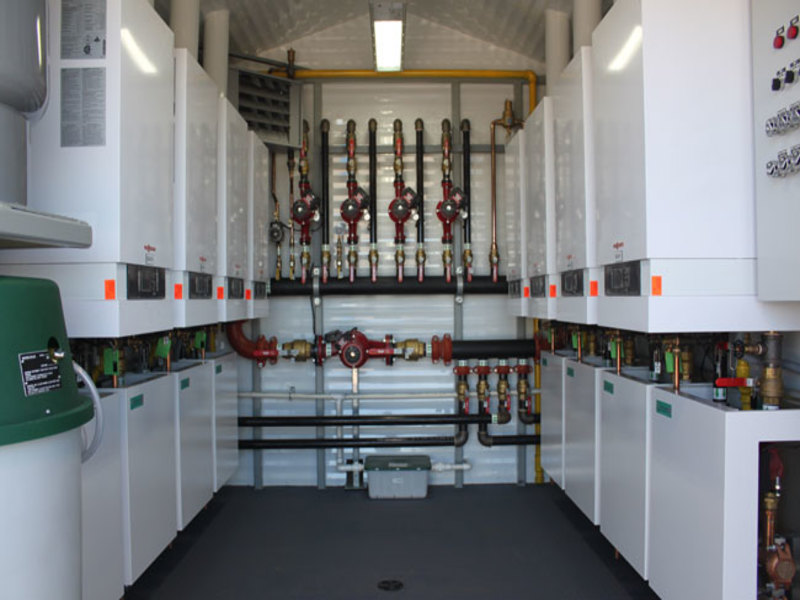valve: (244, 340, 321, 368), (361, 341, 439, 367), (706, 367, 763, 396), (340, 134, 362, 184), (484, 236, 503, 286), (436, 129, 454, 180), (409, 239, 430, 282), (389, 238, 408, 285), (459, 239, 478, 282), (440, 239, 457, 283), (365, 248, 382, 291), (389, 139, 406, 175), (295, 134, 311, 168), (271, 247, 284, 284), (282, 253, 296, 282), (300, 254, 312, 283), (321, 255, 327, 282)
